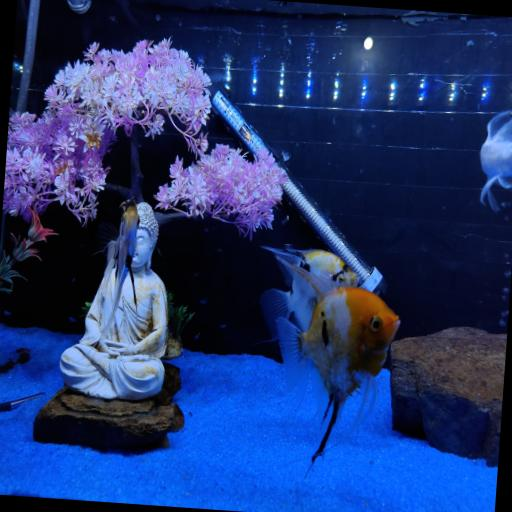Fish: (275, 257, 399, 465), (259, 246, 358, 339), (98, 199, 138, 344), (479, 111, 511, 212)
